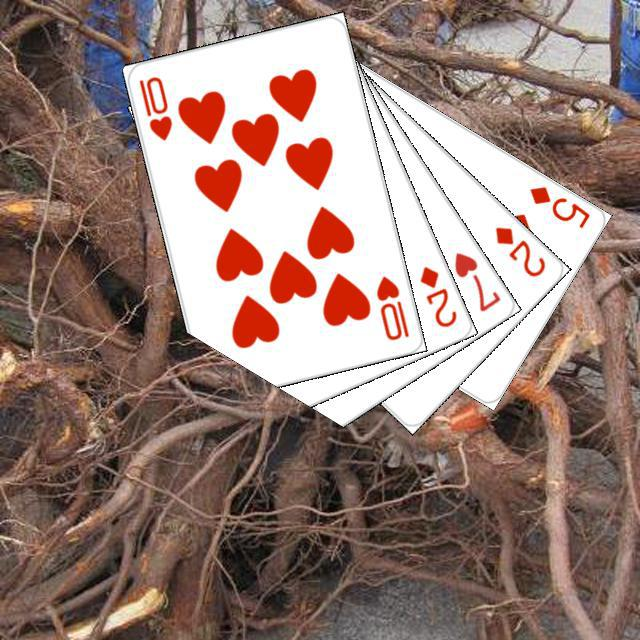10h: (133, 71, 174, 143), (371, 270, 411, 342)
2d: (490, 221, 548, 279), (414, 260, 459, 330)
5d: (524, 181, 592, 231)
7h: (449, 247, 503, 314)
